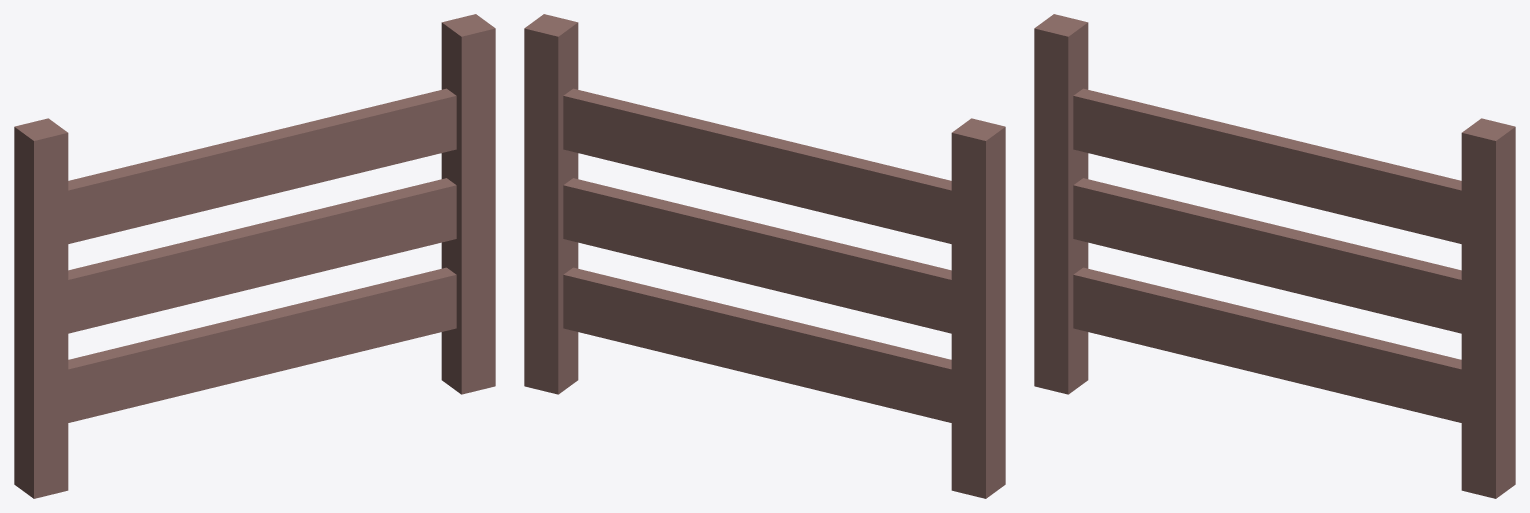
Rendered from Fence.fbx.
The picture shows the model from 3 angles, left to right: view 1: azimuth 30°, elevation 25°; view 2: azimuth 150°, elevation 25°; view 3: azimuth 330°, elevation 25°; orthographic projection.
Visible parts, largest first — view 1: Cube.001; view 2: Cube.001; view 3: Cube.001.
Boxes of the visible parts, x1,y1,x2,y2 form: Cube.001: (14, 14, 495, 498); Cube.001: (524, 14, 1005, 498); Cube.001: (1034, 14, 1515, 498).
Bounding box in the file's own units: 270 × 200 × 20.
